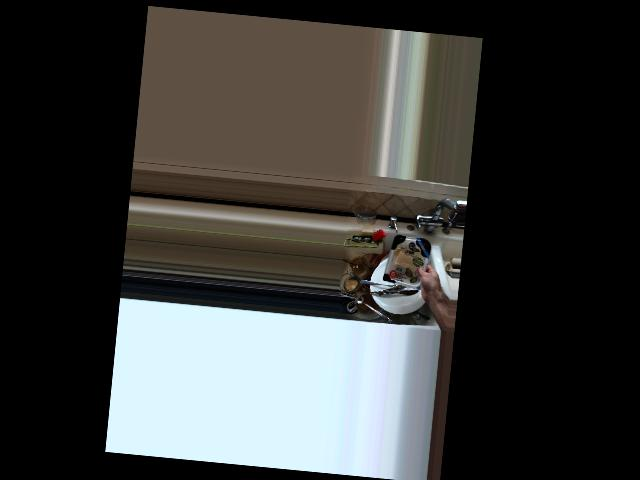cheese: (383, 230, 445, 299)
